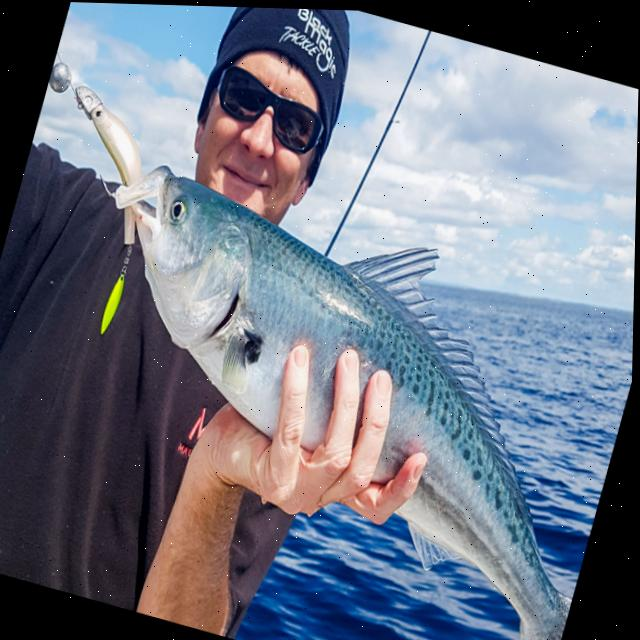Australian Salmon: (13, 131, 638, 640)
